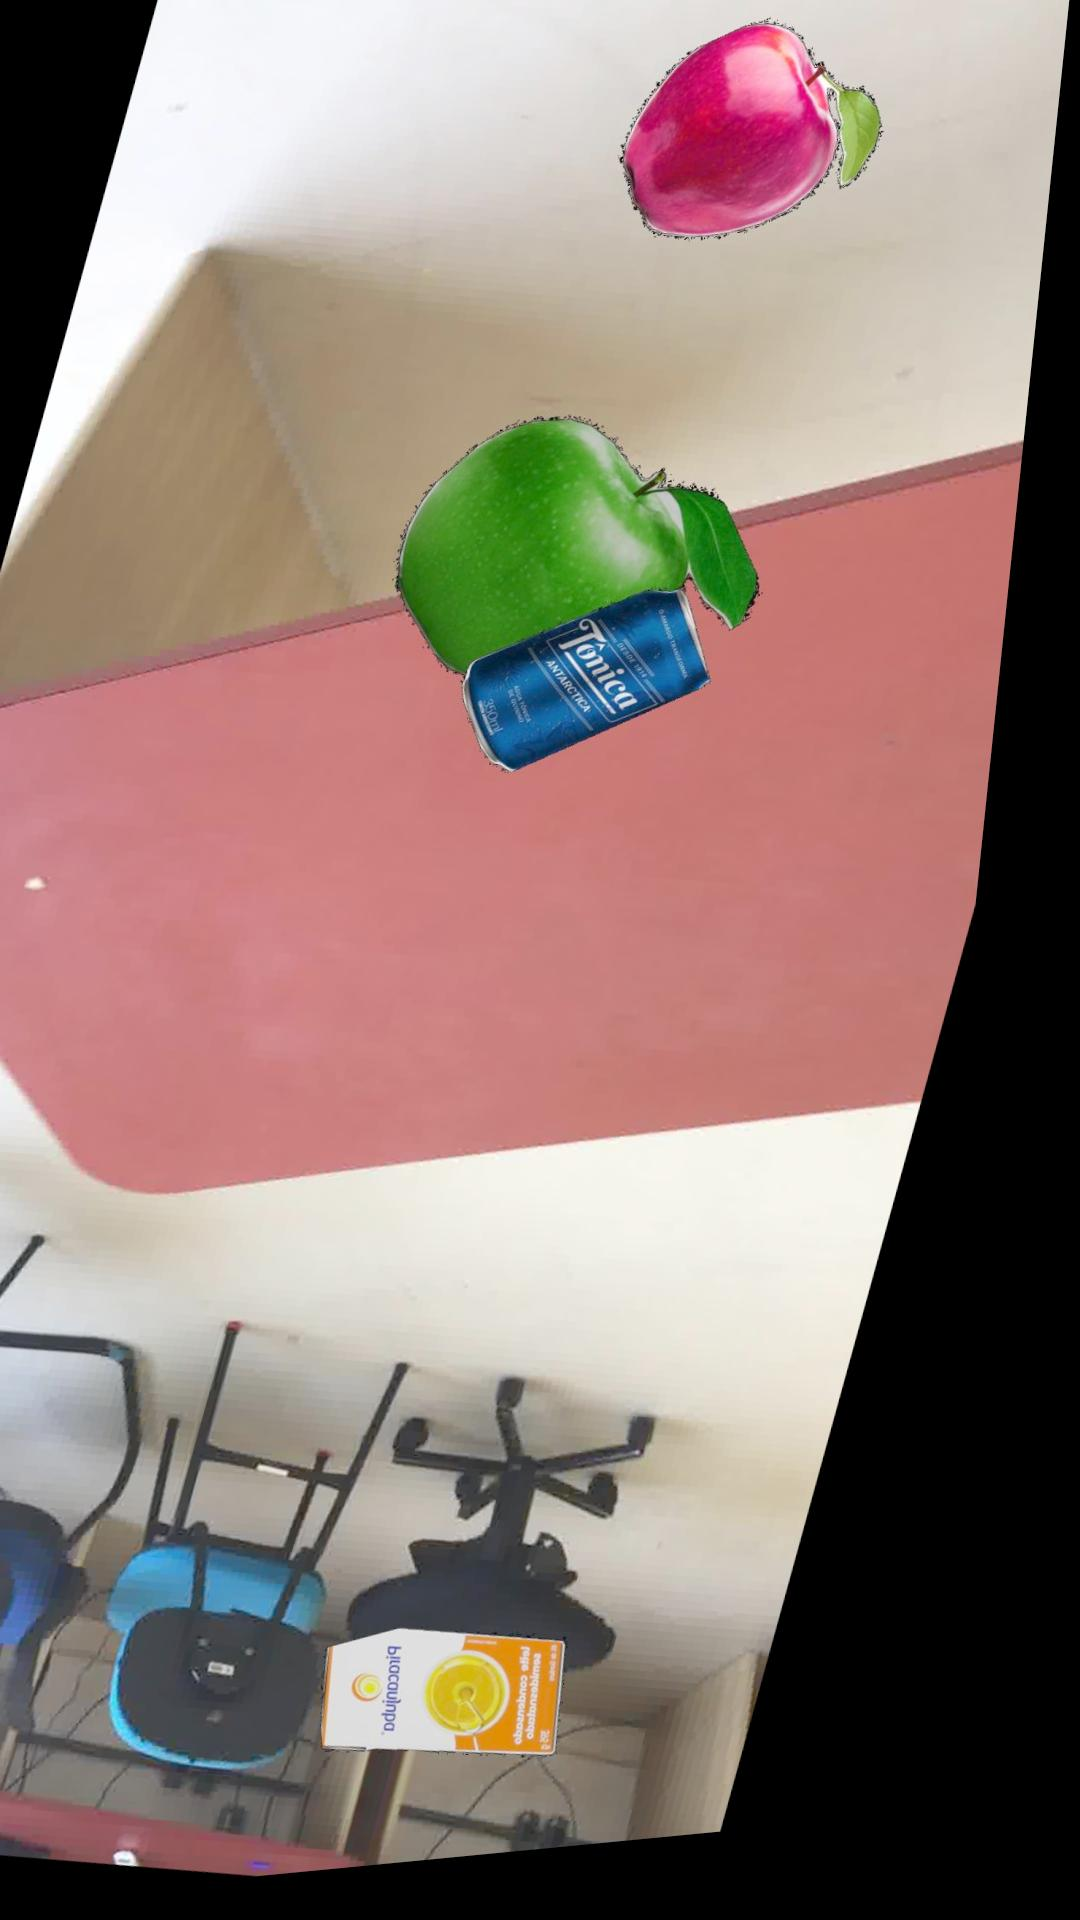apple: (624, 38, 887, 256)
green apple: (409, 430, 774, 688)
tonic: (477, 604, 728, 785)
